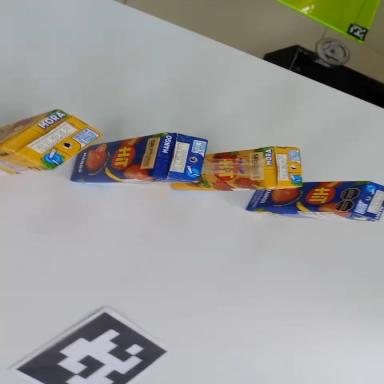HIT-MANGO: (71, 131, 208, 183), (248, 178, 384, 222)
HIT-MORA: (0, 103, 105, 176), (170, 146, 301, 193)
cara_F: (69, 132, 167, 181), (169, 148, 265, 193), (246, 180, 368, 213), (0, 110, 62, 147)
